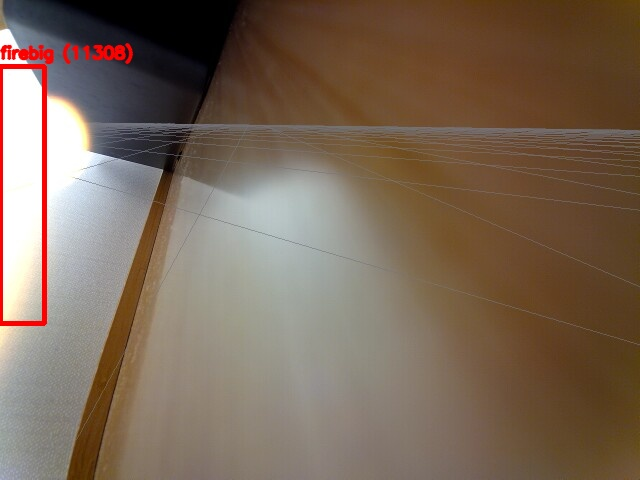firebig: (0, 66, 44, 323)
